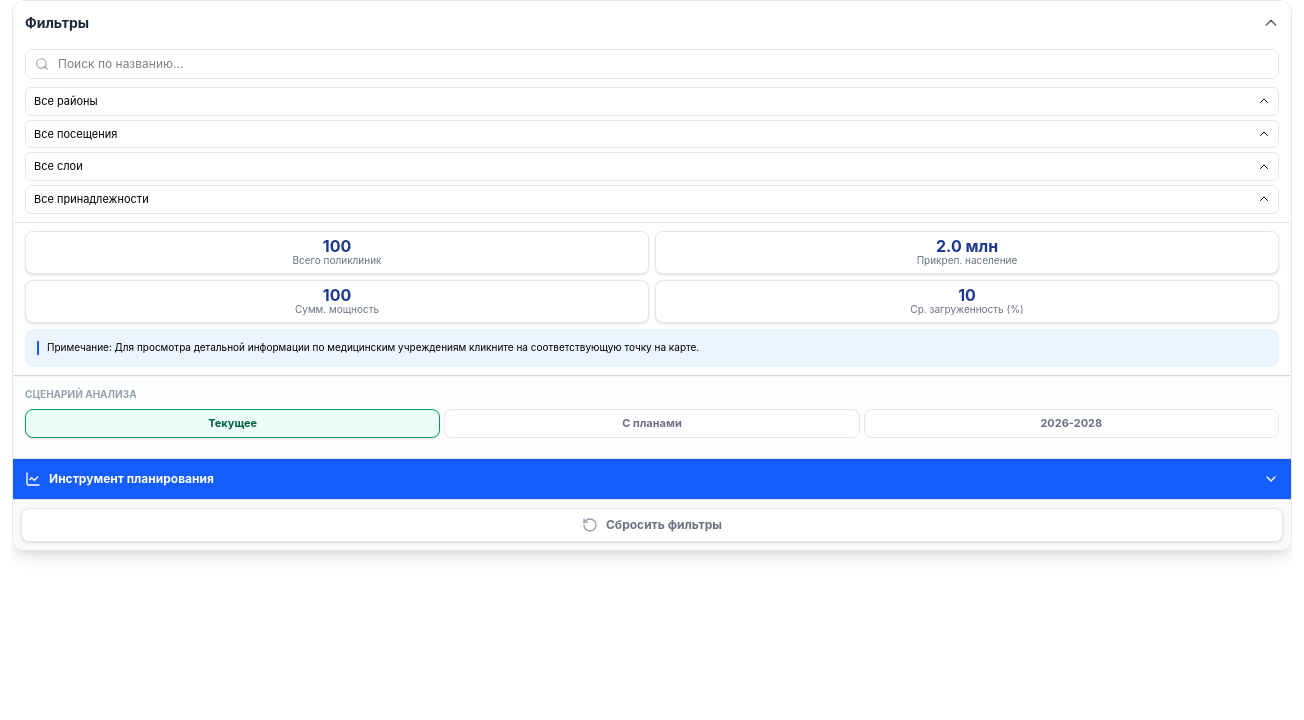
Test: GeoFilterPanel Component › должен открывать выпадающий список районов при клике
Click the text "Все районы".
click(68, 101)  # box [34,94,102,109]
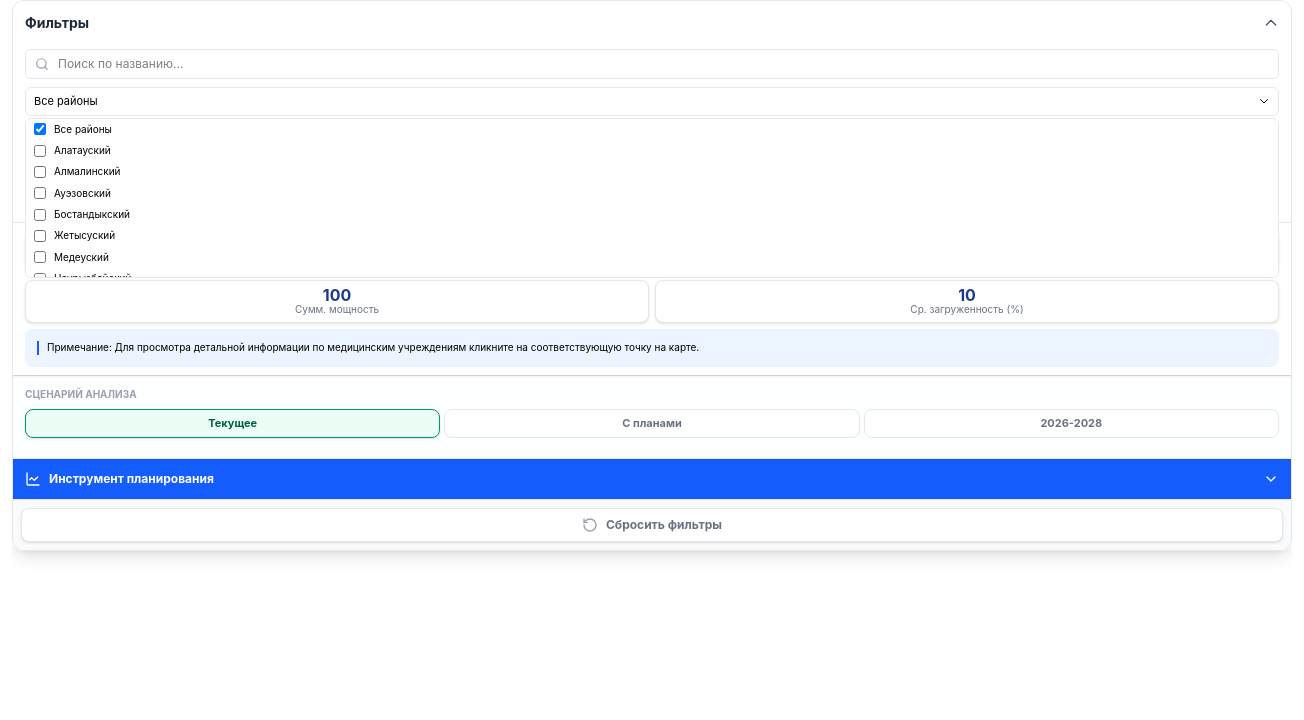
Now the text "Алатауский" is shown, box [34,144,111,157]
